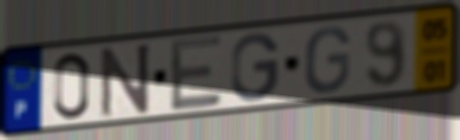0: (51, 51, 91, 122)
9: (363, 18, 409, 91)
E: (167, 32, 224, 115)
G: (228, 31, 282, 105), (302, 24, 353, 96)
N: (98, 41, 153, 121)
